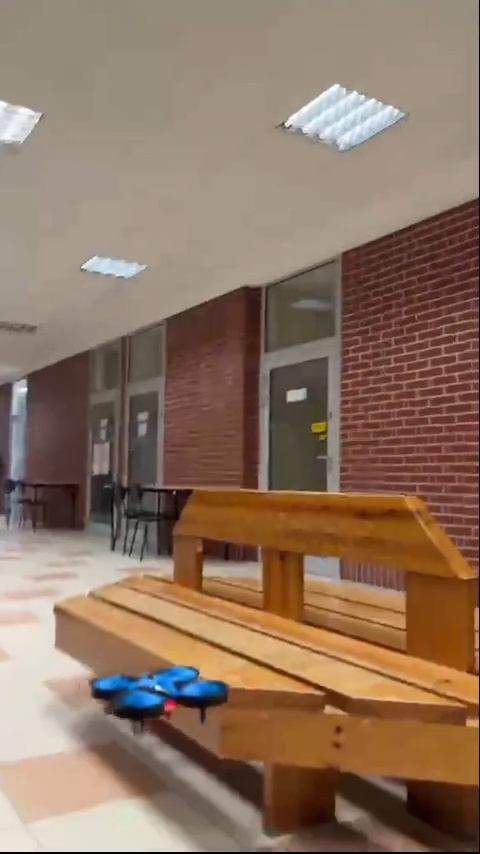drone: (87, 668, 218, 724)
